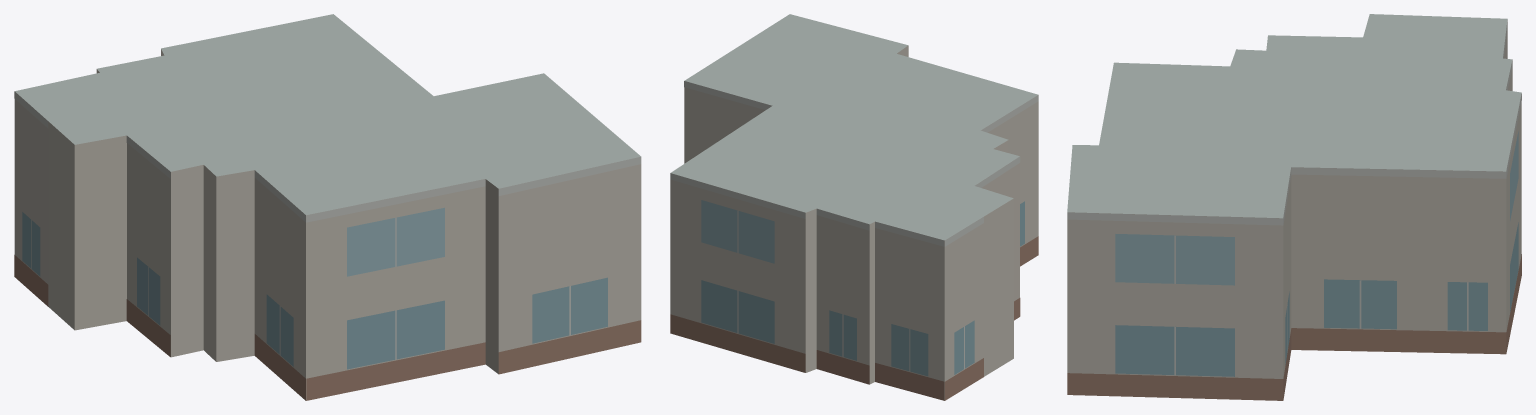
The model's file is survey-upis-32473230.glb.
3 renders of one model, left to right at view 1: azimuth 30°, elevation 25°; view 2: azimuth 150°, elevation 25°; view 3: azimuth 270°, elevation 25°, orthographic. The views are drawn at different scales.
Visible parts, largest first — view 1: survey-upis-32473230.tmp; view 2: survey-upis-32473230.tmp; view 3: survey-upis-32473230.tmp.
Part boxes in pixels (x1,y1,x2,y2): survey-upis-32473230.tmp: [14, 14, 641, 400]; survey-upis-32473230.tmp: [670, 14, 1038, 400]; survey-upis-32473230.tmp: [1067, 14, 1521, 400].
Bounding box in the file's own units: 14.64 × 6.1 × 13.77.
